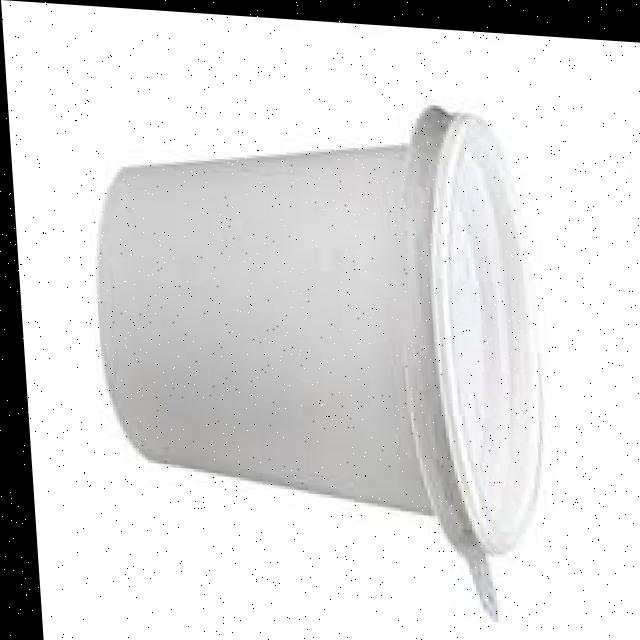disposable: (61, 67, 575, 582)
